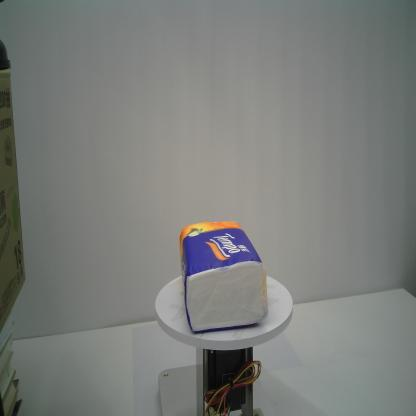Tissue: (178, 219, 269, 335)
